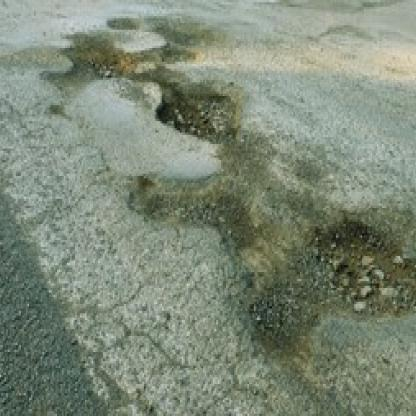pothole: (242, 211, 416, 371), (126, 165, 270, 261), (44, 34, 126, 110), (152, 83, 241, 147), (126, 41, 203, 82), (146, 14, 221, 41), (107, 16, 138, 32)
